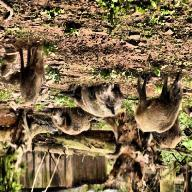boar: (69, 61, 150, 114), (128, 72, 192, 138), (5, 31, 52, 117), (43, 108, 93, 137)
